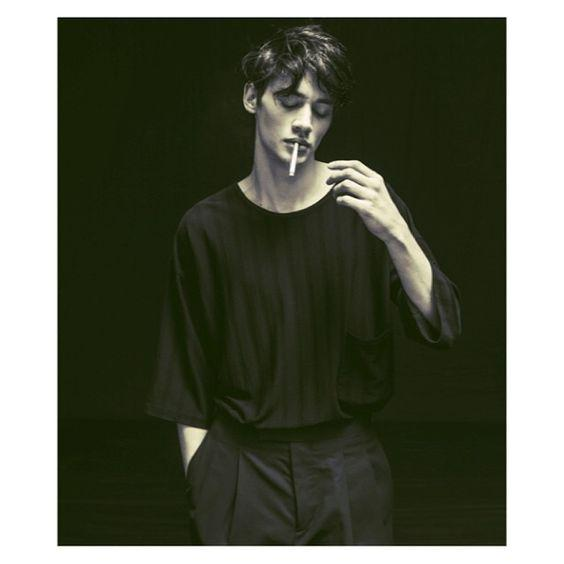cigarette: (288, 141, 299, 177)
